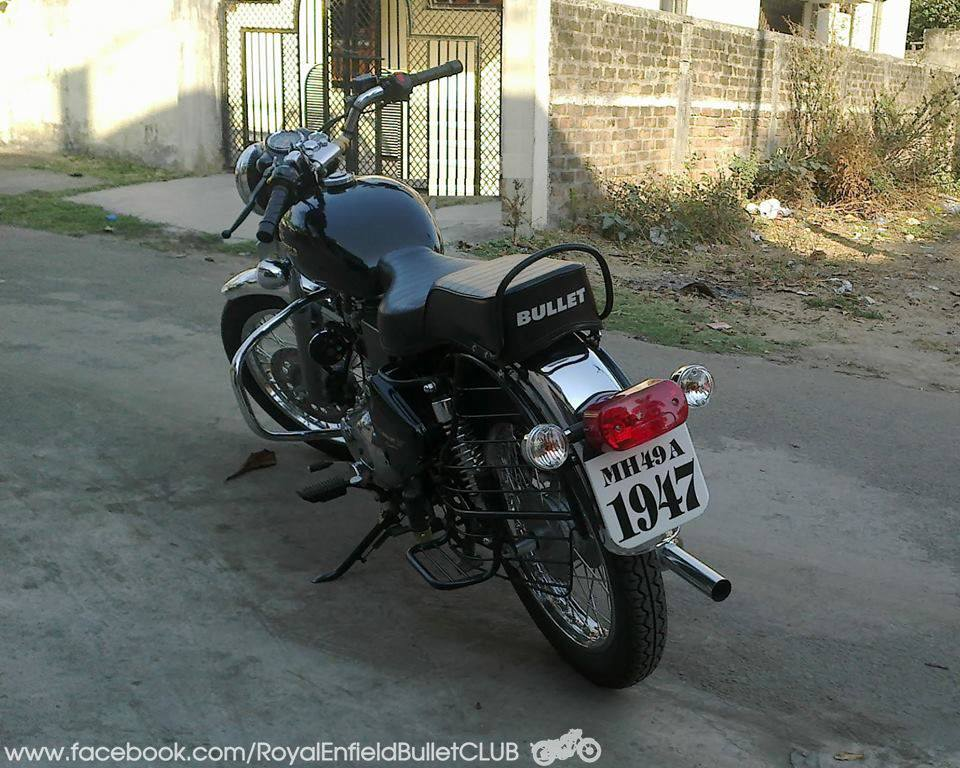bike: (152, 44, 744, 696)
number_plate: (587, 436, 714, 550)
